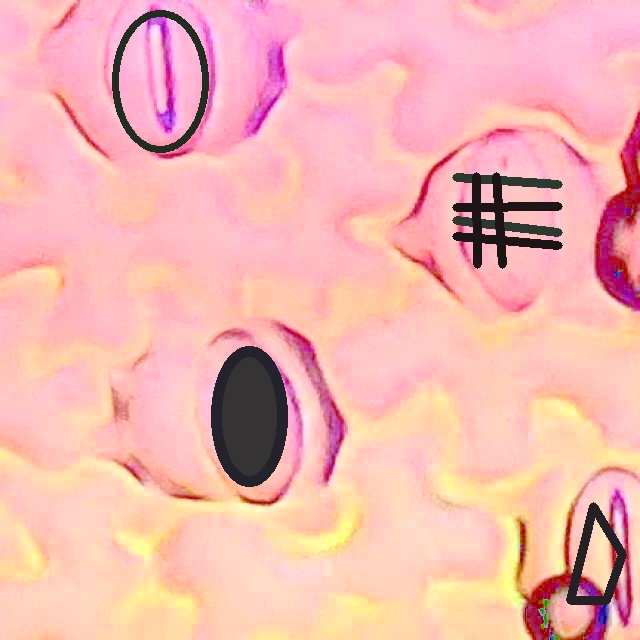close: (211, 346, 287, 485), (452, 172, 561, 268)
open: (111, 8, 209, 154), (567, 502, 625, 603)
